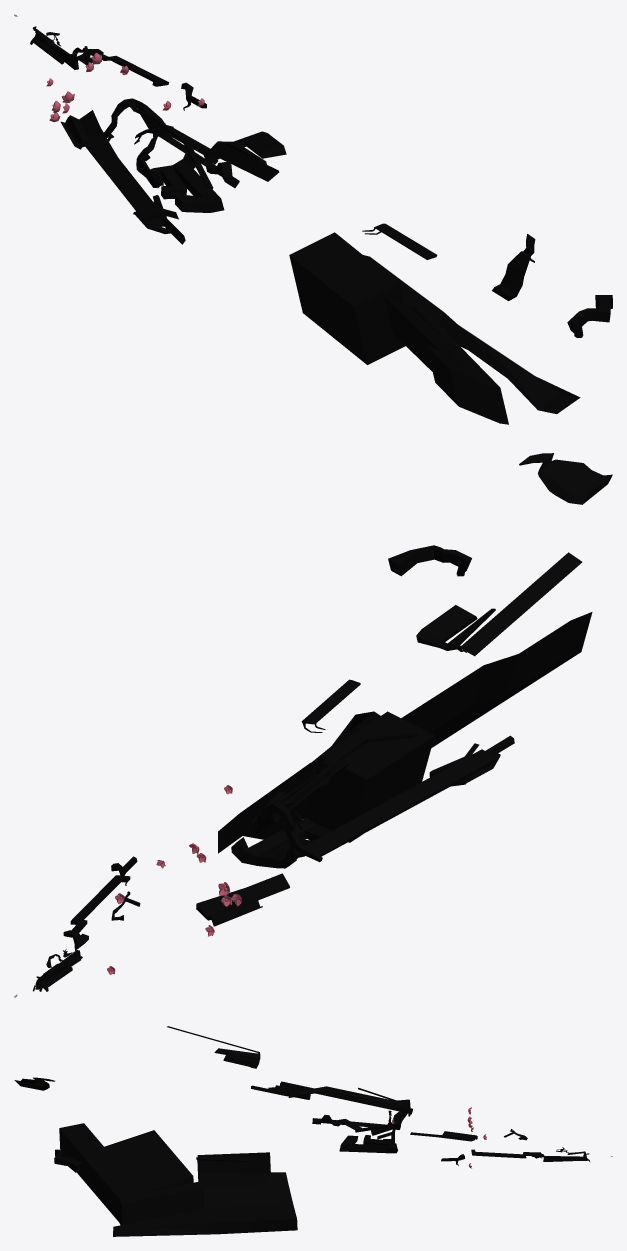
The model's file is Cherry Blossom Tree FBX.fbx.
3 renders of one model, top to bottom at view 1: azimuth 30°, elevation 25°; view 2: azimuth 150°, elevation 25°; view 3: azimuth 270°, elevation 25°, orthographic. The views are drawn at different scales.
Visible parts, largest first — view 1: polySurface49, polySurface47, polySurface50, polySurface58, polySurface55, polySurface52, polySurface48, polySurface59, polySurface57, polySurface54; view 2: polySurface49, polySurface47, polySurface58, polySurface55, polySurface50, polySurface52, polySurface48, polySurface54, polySurface57, polySurface59; view 3: polySurface49, polySurface47, polySurface50, polySurface58, polySurface54, polySurface59, polySurface52, polySurface55, polySurface48, polySurface46.
Boxes of the visible parts, x1,y1,x2,y2 form: polySurface49: [289, 232, 580, 424]; polySurface47: [79, 98, 239, 221]; polySurface50: [134, 129, 224, 212]; polySurface58: [207, 131, 286, 181]; polySurface55: [492, 234, 535, 301]; polySurface52: [60, 110, 117, 156]; polySurface48: [567, 295, 612, 337]; polySurface59: [133, 195, 185, 244]; polySurface57: [362, 223, 437, 259]; polySurface54: [77, 49, 168, 86]; polySurface49: [218, 612, 592, 853]; polySurface47: [251, 732, 496, 862]; polySurface58: [416, 552, 582, 656]; polySurface55: [519, 453, 612, 504]; polySurface50: [231, 812, 332, 868]; polySurface52: [196, 873, 289, 926]; polySurface48: [388, 545, 471, 576]; polySurface54: [63, 875, 130, 950]; polySurface57: [301, 679, 360, 732]; polySurface59: [429, 735, 514, 786]; polySurface49: [59, 1123, 297, 1236]; polySurface47: [280, 1081, 412, 1132]; polySurface50: [339, 1110, 397, 1153]; polySurface58: [167, 1026, 260, 1068]; polySurface54: [471, 1149, 544, 1158]; polySurface59: [251, 1085, 310, 1099]; polySurface52: [410, 1131, 477, 1141]; polySurface55: [14, 1077, 54, 1090]; polySurface48: [54, 1149, 81, 1172]; polySurface46: [543, 1151, 588, 1161].
Size of what is drawn, in the model's own units: 23.77 by 21.44 by 76.79.
